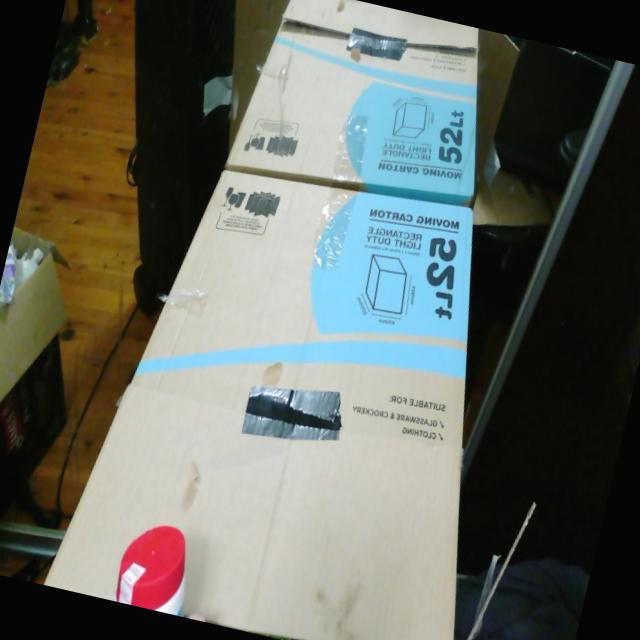woolworths_salt_bottle: (115, 525, 185, 616)
